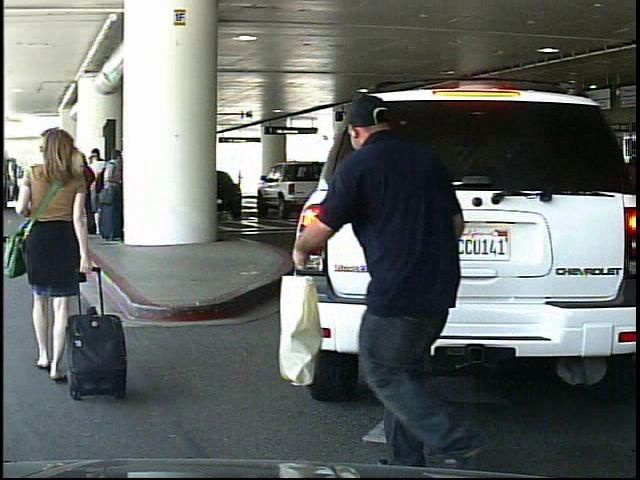person: (321, 76, 494, 468), (4, 123, 105, 408)
